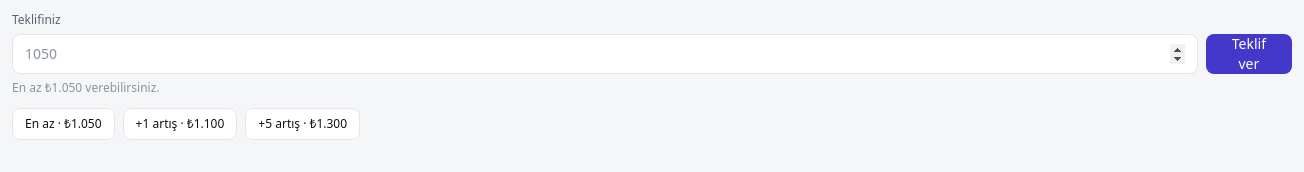
Scenario: BidForm › clears the field once the invocation leaves the client
Step 1. Type "1200" into the number field labelled "Teklifiniz" → (605, 54), box [12,34,1198,74]
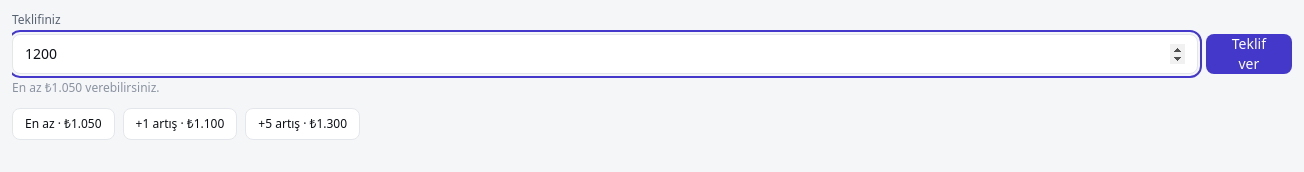
Step 2. Click the button "Teklif ver" → (1249, 54), box [1206,34,1292,74]
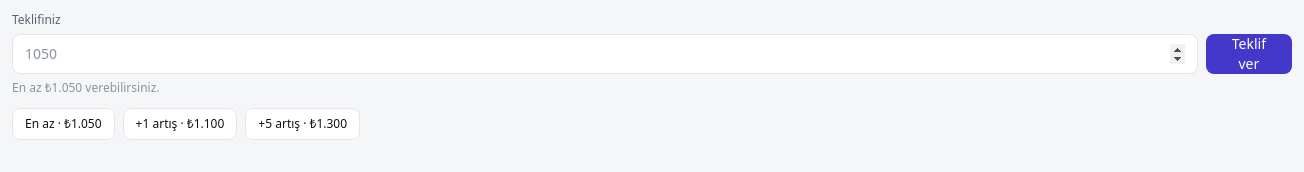
Result: the number field labelled "Teklifiniz" is not empty at [12,34,1198,74]
